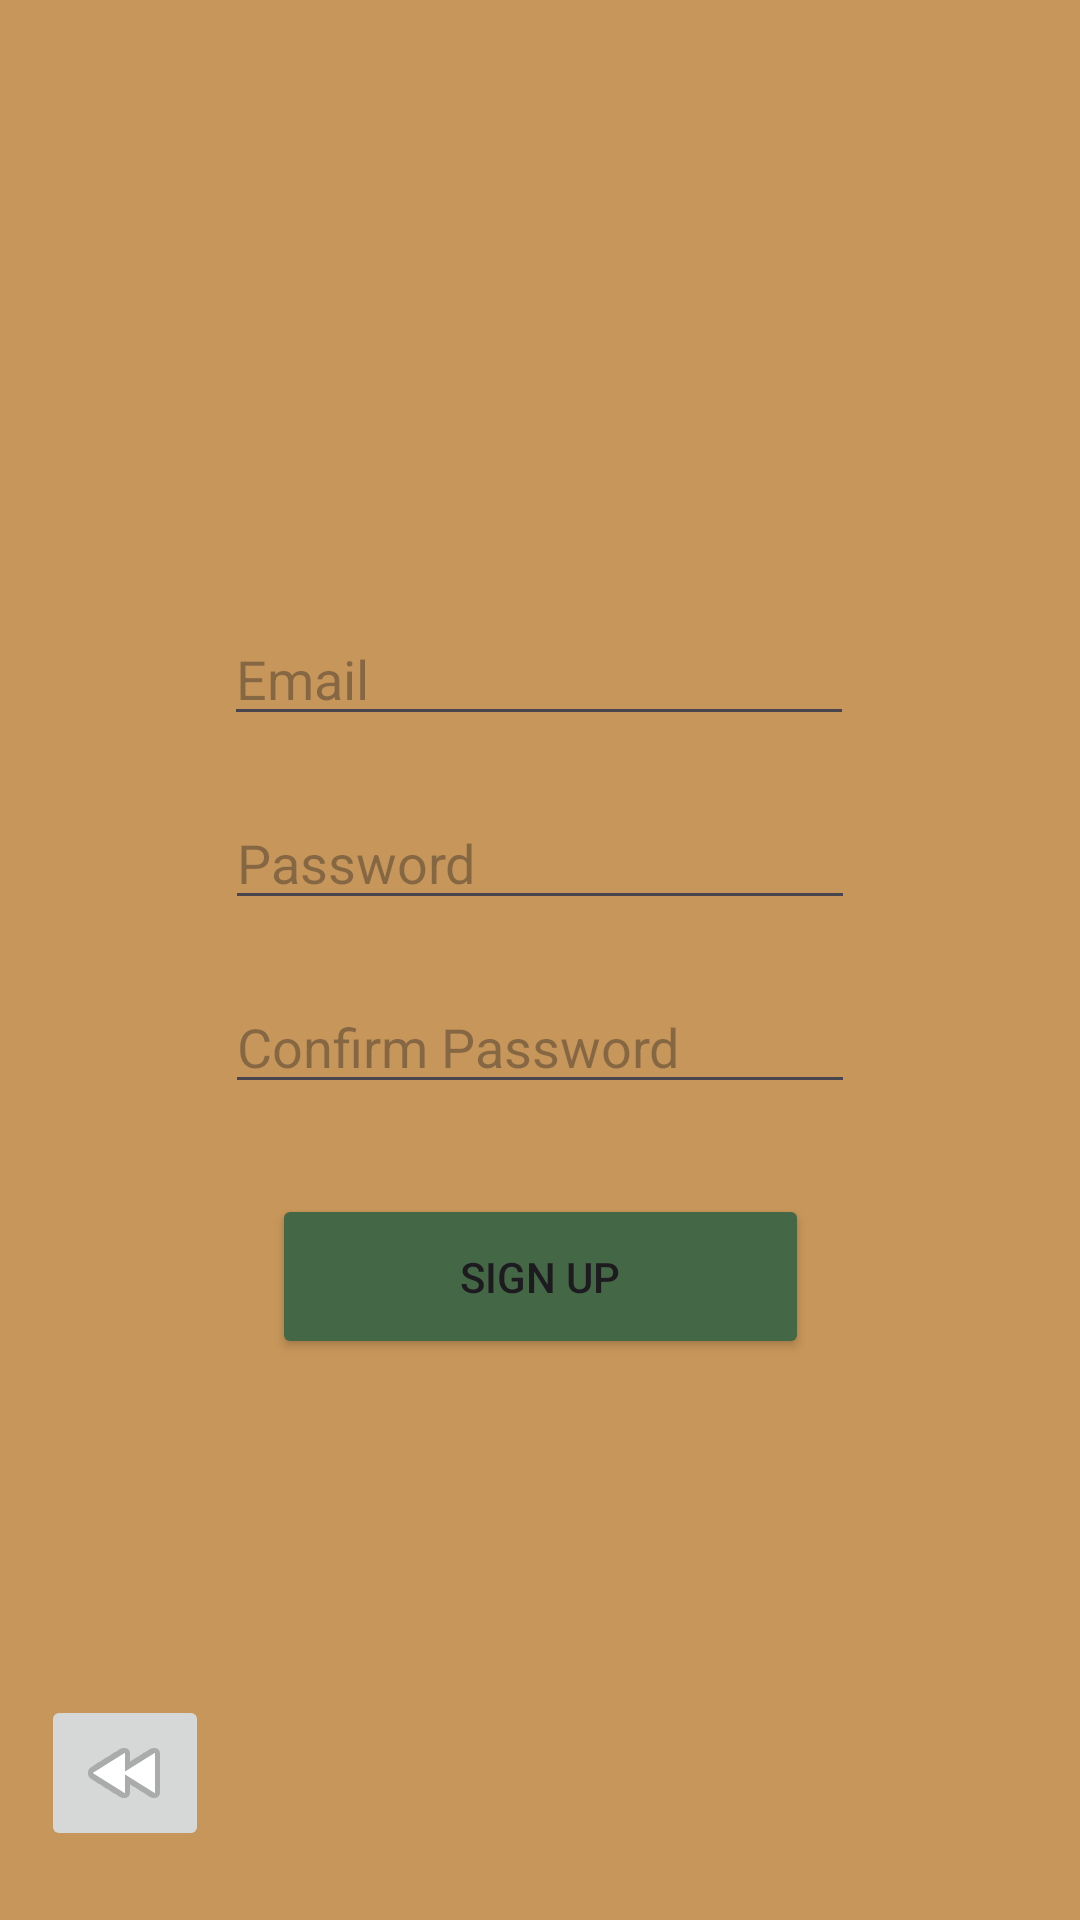

Icons on this 1080px×1920px Android screen, each with the point to tap as (x,y):
rew: (125,1773)
